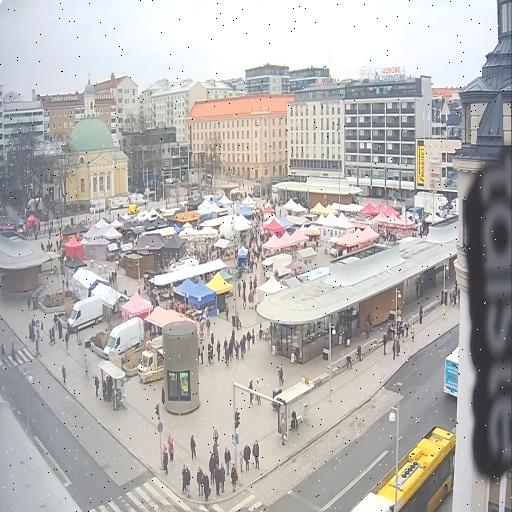bus: (352, 427, 455, 511), (444, 346, 459, 398)
delivery: (104, 317, 143, 359), (68, 296, 103, 331), (138, 336, 163, 383)
